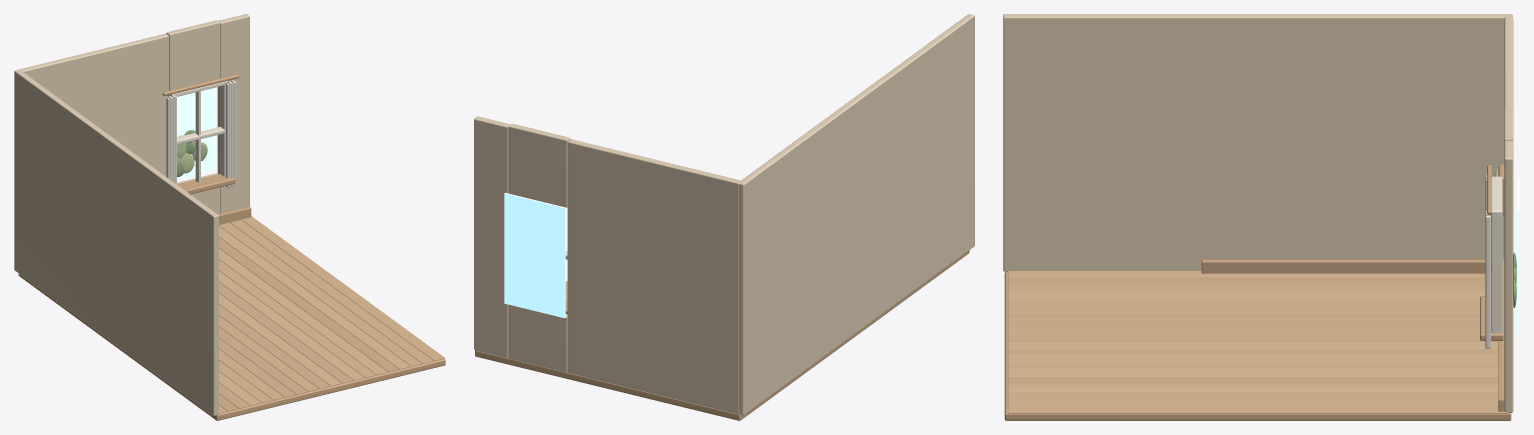
3 renders of one model, left to right at view 1: azimuth 30°, elevation 25°; view 2: azimuth 150°, elevation 25°; view 3: azimuth 270°, elevation 25°, orthographic. The views are drawn at different scales.
Parts seen in each view (by area): view 1: 왼쪽 벽.005, 뒷벽 왼쪽.005, 뒷벽 오른쪽.005, 창 위 벽.005, 바닥 바탕.005, 바닥 판 17.005, 바닥 판 18.005, 바닥 판 19.005, 바닥 판 16.005, 바닥 판 15.005, 바닥 판 14.005, 창밖 하늘.005 (+16 smaller); view 2: 왼쪽 벽.005, 뒷벽 왼쪽.005, 뒷벽 오른쪽.005, 창밖 하늘.005, 창 위 벽.005, 창 아래 벽.005, 바닥 바탕.005; view 3: 왼쪽 벽.005, 바닥 바탕.005, 바닥 판 19.005, 왼벽 걸레받이.005, 바닥 판 17.005, 바닥 판 12.005, 바닥 판 14.005, 바닥 판 15.005, 바닥 판 16.005, 바닥 판 18.005, 바닥 판 11.005, 바닥 판 10.005 (+17 smaller).
Part boxes in pixels (x1=…): 왼쪽 벽.005: x1=14, y1=69, x2=218, y2=415; 뒷벽 왼쪽.005: x1=19, y1=33, x2=168, y2=176; 뒷벽 오른쪽.005: x1=217, y1=14, x2=249, y2=213; 창 위 벽.005: x1=166, y1=20, x2=220, y2=90; 바닥 바탕.005: x1=18, y1=274, x2=445, y2=420; 바닥 판 17.005: x1=219, y1=222, x2=421, y2=366; 바닥 판 18.005: x1=230, y1=220, x2=433, y2=363; 바닥 판 19.005: x1=242, y1=216, x2=444, y2=360; 바닥 판 16.005: x1=219, y1=226, x2=410, y2=369; 바닥 판 15.005: x1=219, y1=237, x2=398, y2=372; 바닥 판 14.005: x1=219, y1=248, x2=387, y2=374; 창밖 하늘.005: x1=177, y1=87, x2=215, y2=179; 왼쪽 벽.005: x1=739, y1=14, x2=974, y2=415; 뒷벽 왼쪽.005: x1=567, y1=139, x2=740, y2=414; 뒷벽 오른쪽.005: x1=474, y1=116, x2=510, y2=357; 창밖 하늘.005: x1=504, y1=193, x2=565, y2=318; 창 위 벽.005: x1=508, y1=123, x2=570, y2=207; 창 아래 벽.005: x1=508, y1=304, x2=567, y2=372; 바닥 바탕.005: x1=475, y1=250, x2=969, y2=420; 왼쪽 벽.005: x1=1003, y1=14, x2=1512, y2=271; 바닥 바탕.005: x1=1004, y1=271, x2=1511, y2=420; 바닥 판 19.005: x1=1008, y1=405, x2=1507, y2=413; 왼벽 걸레받이.005: x1=1201, y1=259, x2=1491, y2=273; 바닥 판 17.005: x1=1008, y1=391, x2=1498, y2=398; 바닥 판 12.005: x1=1008, y1=355, x2=1498, y2=362; 바닥 판 14.005: x1=1008, y1=370, x2=1498, y2=377; 바닥 판 15.005: x1=1008, y1=377, x2=1498, y2=384; 바닥 판 16.005: x1=1008, y1=384, x2=1498, y2=391; 바닥 판 18.005: x1=1008, y1=398, x2=1498, y2=405; 바닥 판 11.005: x1=1008, y1=348, x2=1498, y2=355; 바닥 판 10.005: x1=1008, y1=341, x2=1498, y2=348.
Bounding box in the file's own units: 5.49 × 4.66 × 8.26.
